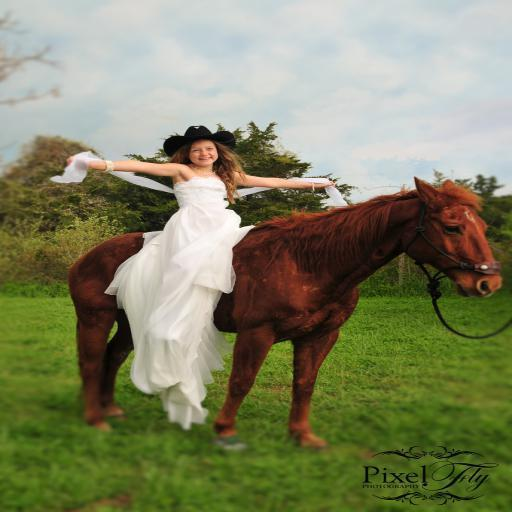horse: (62, 172, 504, 450)
